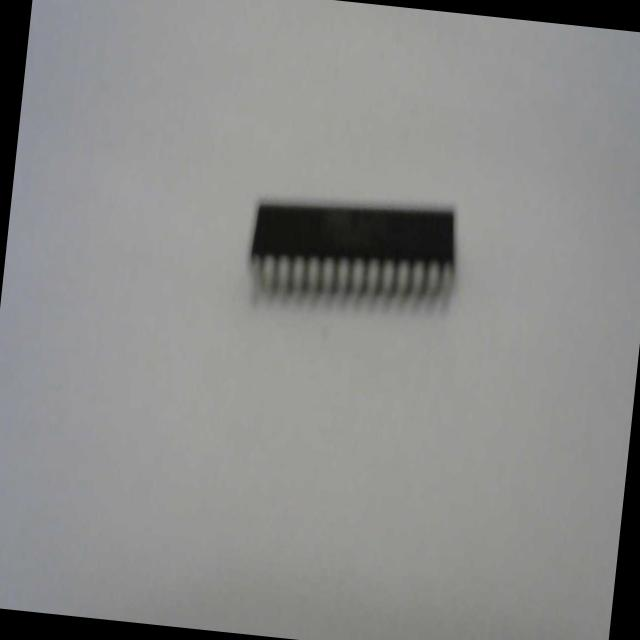atmega: (241, 182, 465, 326)
